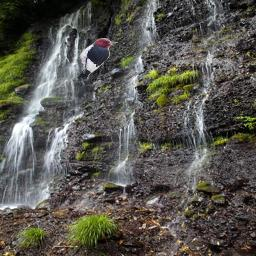Woodpecker: (78, 38, 118, 79)
